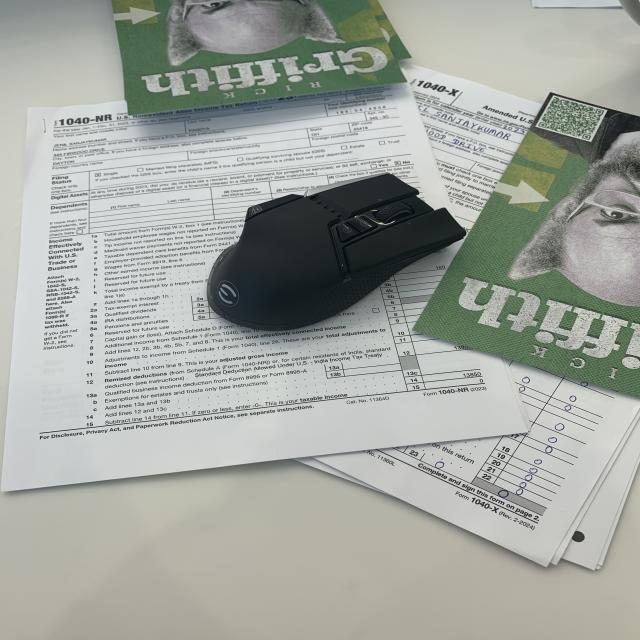Mouse: (202, 170, 470, 335)
